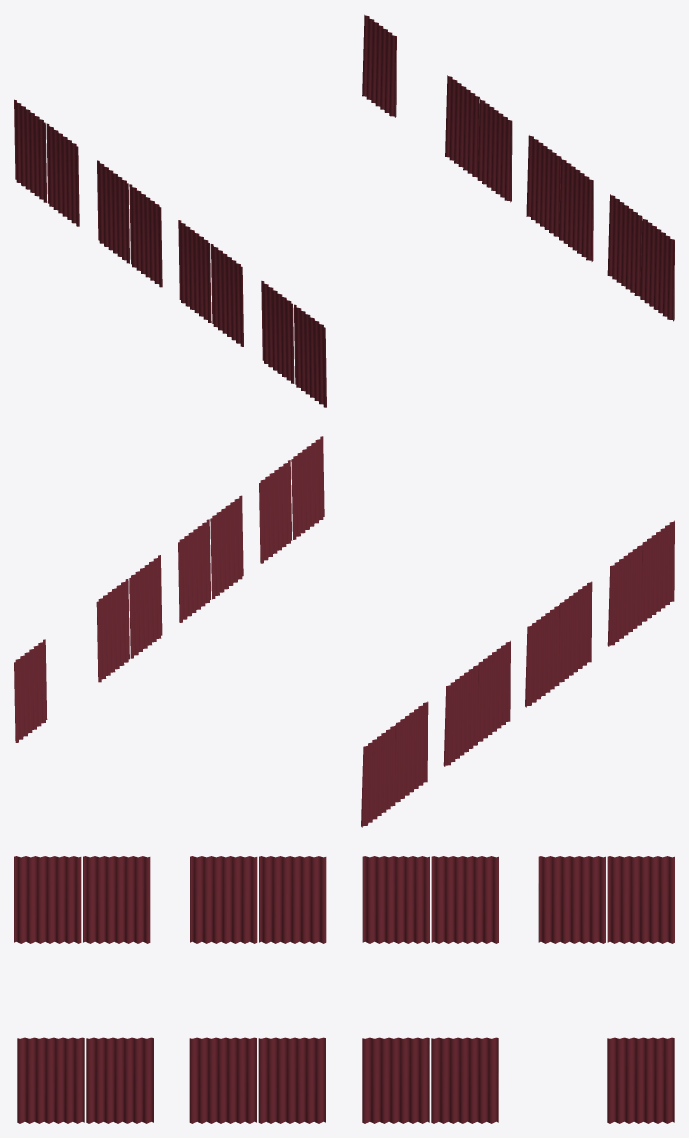
Rendered from ENV_Curtains.fbx.
3 views of the same model, one above another, from view 1: azimuth 30°, elevation 25°; view 2: azimuth 150°, elevation 25°; view 3: azimuth 270°, elevation 25° (orthographic). The views are drawn at different scales.
Parts seen in each view (by area): view 1: PROP_Curtain_R_11, PROP_Curtain_R_02, PROP_Curtain_R_07, PROP_Curtain_R_14, PROP_Curtain_R_09, PROP_Curtain_R_12, PROP_Curtain_R_05, PROP_Curtain_R_08, PROP_Curtain_R_06, PROP_Curtain_R_13, PROP_Curtain_R_03, PROP_Curtain_R_01 (+3 smaller); view 2: PROP_Curtain_R_01, PROP_Curtain_R_08, PROP_Curtain_R_13, PROP_Curtain_R_04, PROP_Curtain_R_14, PROP_Curtain_R_11, PROP_Curtain_R_07, PROP_Curtain_R_05, PROP_Curtain_R_12, PROP_Curtain_R_02, PROP_Curtain_R_09, PROP_Curtain_R_03 (+3 smaller); view 3: PROP_Curtain_R_04, PROP_Curtain_R_01, PROP_Curtain_R_15, PROP_Curtain_R_08, PROP_Curtain_R_13, PROP_Curtain_R_03, PROP_Curtain_R_06, PROP_Curtain_R_10, PROP_Curtain_R_12, PROP_Curtain_R_05, PROP_Curtain_R_07, PROP_Curtain_R_02 (+3 smaller).
Part boxes in pixels (x1,y1,x2,y2): PROP_Curtain_R_11: (559,158,593,261); PROP_Curtain_R_02: (362,14,396,117); PROP_Curtain_R_07: (477,98,512,202); PROP_Curtain_R_14: (640,218,674,321); PROP_Curtain_R_09: (526,135,561,236); PROP_Curtain_R_12: (607,194,642,296); PROP_Curtain_R_05: (445,75,479,177); PROP_Curtain_R_08: (178,220,211,322); PROP_Curtain_R_06: (129,184,162,287); PROP_Curtain_R_13: (261,280,294,383); PROP_Curtain_R_03: (46,123,79,226); PROP_Curtain_R_01: (14,99,47,202); PROP_Curtain_R_01: (361,725,395,827); PROP_Curtain_R_08: (525,605,559,707); PROP_Curtain_R_13: (607,544,642,646); PROP_Curtain_R_04: (443,664,478,766); PROP_Curtain_R_14: (291,436,324,539); PROP_Curtain_R_11: (210,495,243,599); PROP_Curtain_R_07: (129,555,162,658); PROP_Curtain_R_05: (96,579,129,682); PROP_Curtain_R_12: (259,460,292,563); PROP_Curtain_R_02: (14,639,47,742); PROP_Curtain_R_09: (178,519,210,622); PROP_Curtain_R_03: (395,701,428,802); PROP_Curtain_R_04: (431,856,498,943); PROP_Curtain_R_01: (607,856,674,943); PROP_Curtain_R_15: (14,856,81,943); PROP_Curtain_R_08: (259,856,326,943); PROP_Curtain_R_13: (83,856,150,943); PROP_Curtain_R_03: (538,856,605,943); PROP_Curtain_R_06: (362,856,429,943); PROP_Curtain_R_10: (190,856,257,943); PROP_Curtain_R_12: (86,1037,153,1123); PROP_Curtain_R_05: (431,1037,498,1123); PROP_Curtain_R_07: (362,1037,429,1123); PROP_Curtain_R_02: (607,1037,674,1123).
Size of the model in its own units: 19.37 by 4.2 by 29.55.
